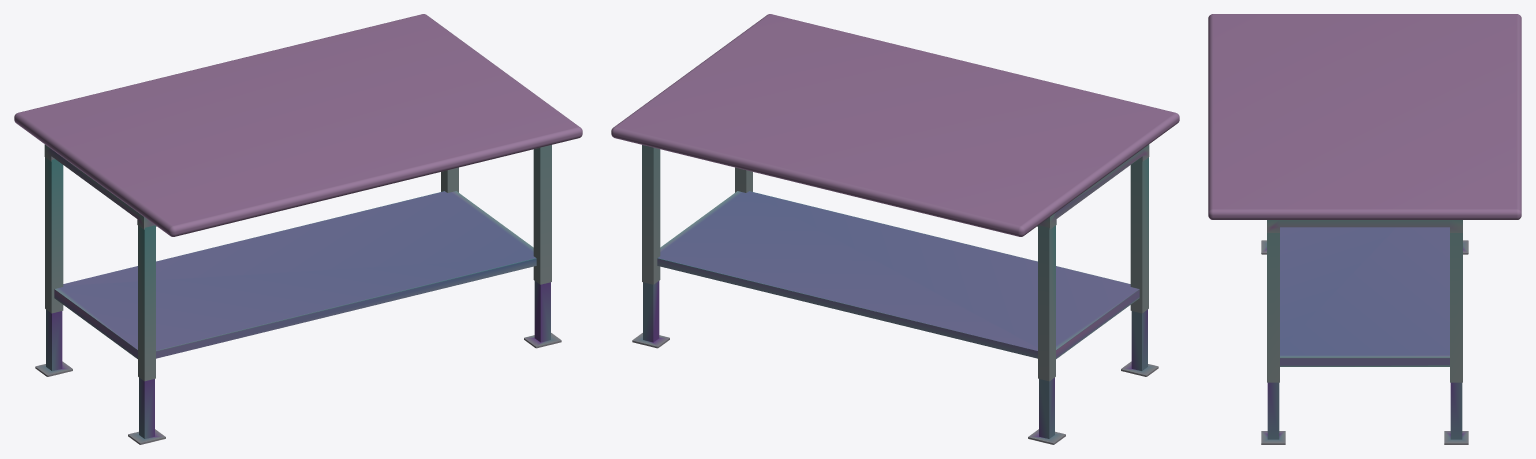
The model's file is simready-table_packing_heavyduty_c01.glb.
3 views of the same model, side by side, from view 1: azimuth 30°, elevation 25°; view 2: azimuth 150°, elevation 25°; view 3: azimuth 270°, elevation 25° (orthographic).
Parts seen in each view (by area): view 1: top, shelf_sheet, foot.003, foot.002, foot, long_rail; view 2: top, shelf_sheet, foot.002, foot.003, foot.001, long_rail; view 3: top, shelf_sheet, foot, foot.001, long_rail.
Boxes of the visible parts, <box> form: top: <box>14,14,582,236</box>; shelf_sheet: <box>54,191,536,358</box>; foot.003: <box>35,157,72,376</box>; foot.002: <box>128,225,165,444</box>; foot: <box>524,145,561,348</box>; long_rail: <box>44,144,156,229</box>; top: <box>611,14,1179,236</box>; shelf_sheet: <box>657,191,1139,358</box>; foot.002: <box>1121,157,1158,376</box>; foot.003: <box>1028,225,1065,444</box>; foot.001: <box>632,145,669,348</box>; long_rail: <box>1037,144,1149,229</box>; top: <box>1208,14,1521,219</box>; shelf_sheet: <box>1280,227,1449,366</box>; foot: <box>1261,233,1285,444</box>; foot.001: <box>1444,233,1468,444</box>; long_rail: <box>1267,220,1462,232</box>.
Size of the model in its own units: 1.87 by 0.9941 by 1.22.
